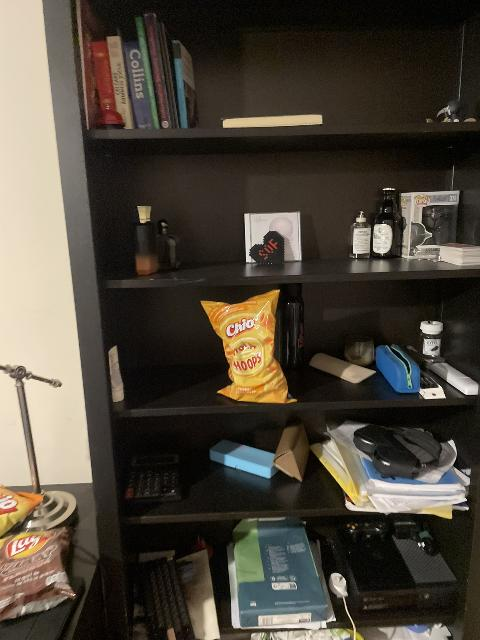Chio Cascaval 125g: (0, 484, 44, 543)
Chio Hula Hoops Cheese 70g: (206, 292, 296, 401)
Lays Beef Grilled Ribs 125g: (1, 525, 77, 622)
